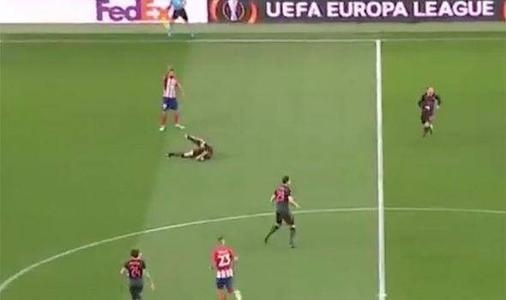falling: (162, 130, 215, 164)
